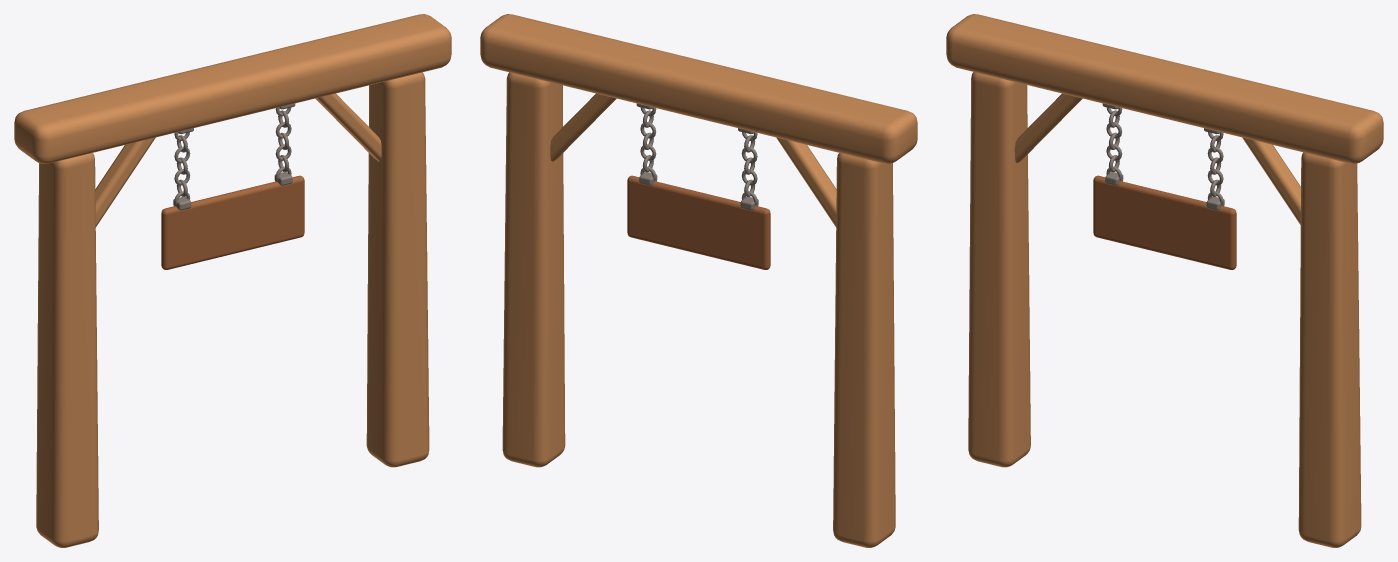
The model's file is HUB_ARCH_GATE.glb.
3 renders of one model, left to right at view 1: azimuth 30°, elevation 25°; view 2: azimuth 150°, elevation 25°; view 3: azimuth 330°, elevation 25°, orthographic.
Visible parts, largest first — view 1: top_beam, post_1, post_0, board, chains, brace_1, brace_0; view 2: top_beam, post_1, post_0, board, chains, brace_1, brace_0; view 3: top_beam, post_0, post_1, board, chains, brace_0, brace_1.
Boxes of the visible parts, x1=… form: top_beam: x1=14, y1=14, x2=451, y2=163; post_1: x1=36, y1=153, x2=98, y2=547; post_0: x1=366, y1=72, x2=429, y2=467; board: x1=161, y1=175, x2=304, y2=269; chains: x1=173, y1=103, x2=295, y2=210; brace_1: x1=95, y1=137, x2=155, y2=227; brace_0: x1=315, y1=93, x2=381, y2=161; top_beam: x1=480, y1=14, x2=917, y2=163; post_1: x1=833, y1=153, x2=895, y2=547; post_0: x1=502, y1=72, x2=565, y2=467; board: x1=627, y1=175, x2=770, y2=269; chains: x1=636, y1=103, x2=758, y2=210; brace_1: x1=776, y1=137, x2=836, y2=227; brace_0: x1=550, y1=93, x2=616, y2=161; top_beam: x1=946, y1=14, x2=1383, y2=163; post_0: x1=1298, y1=152, x2=1361, y2=547; post_1: x1=968, y1=72, x2=1030, y2=467; board: x1=1093, y1=175, x2=1236, y2=269; chains: x1=1102, y1=103, x2=1224, y2=210; brace_0: x1=1242, y1=137, x2=1300, y2=224; brace_1: x1=1014, y1=93, x2=1082, y2=162.
Size of the model in its own units: 16.5 by 16.19 by 2.
